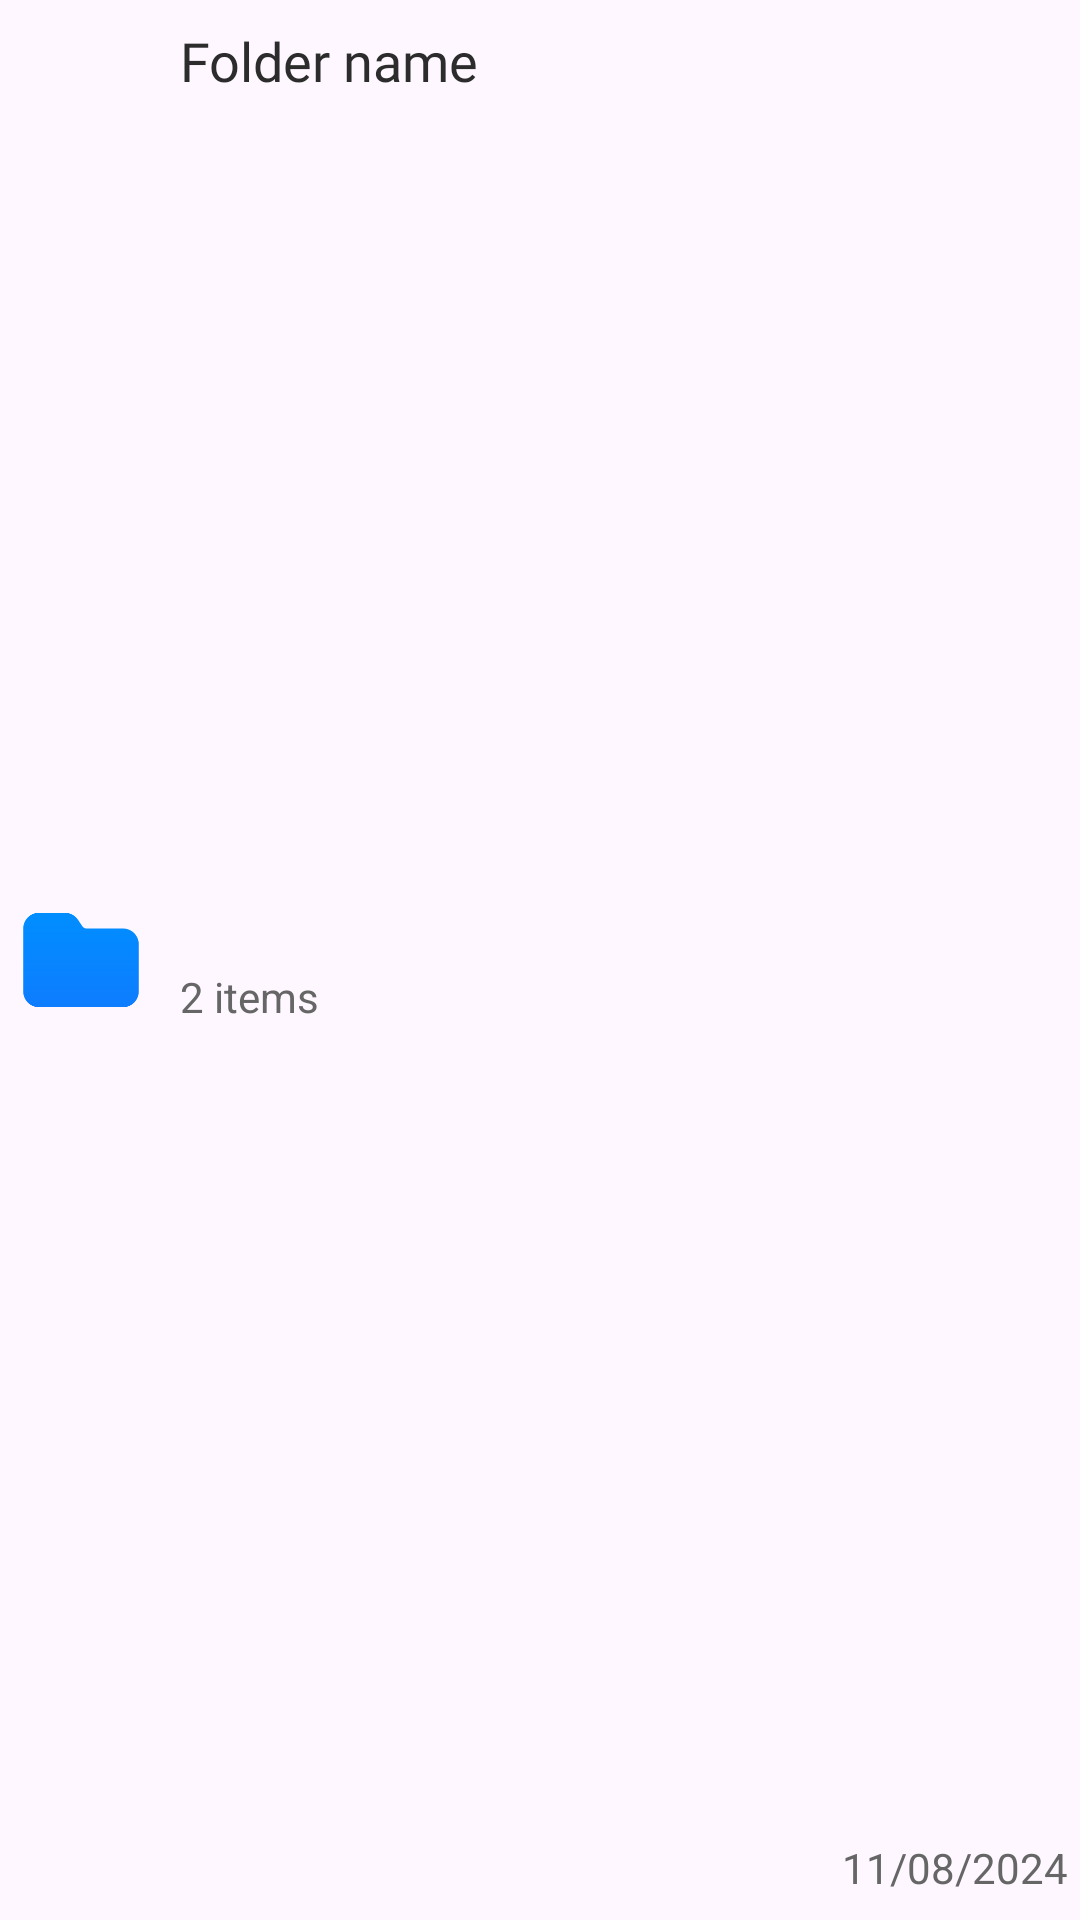

Point at icon controls on the screen. Image size 1080 × 1920, points as point (x, y).
folder ui: point (81, 960)
